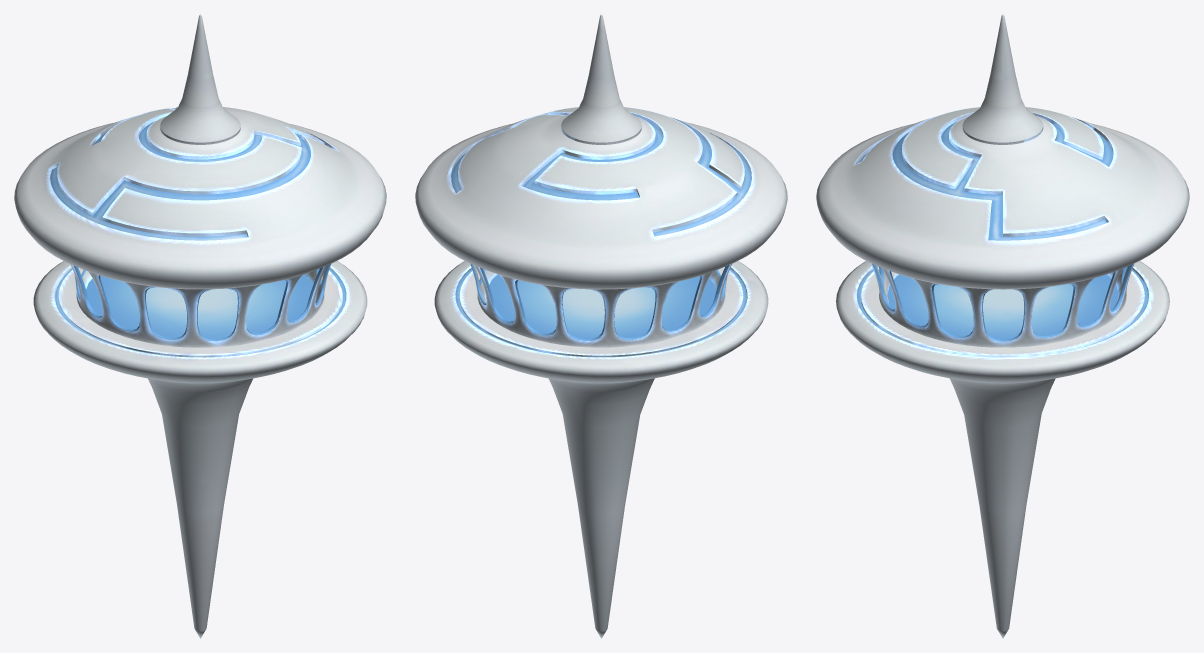
The model's file is turnip3.fbx.
3 renders of one model, left to right at view 1: azimuth 30°, elevation 25°; view 2: azimuth 150°, elevation 25°; view 3: azimuth 270°, elevation 25°, orthographic.
Parts seen in each view (by area): view 1: turnip3; view 2: turnip3; view 3: turnip3.
Boxes of the visible parts, box(x1,y1,x2,y2) form: turnip3: box(14, 14, 386, 638); turnip3: box(415, 14, 787, 638); turnip3: box(816, 14, 1189, 638).
Size of the model in its own units: 1.46 by 2.7 by 1.46.
